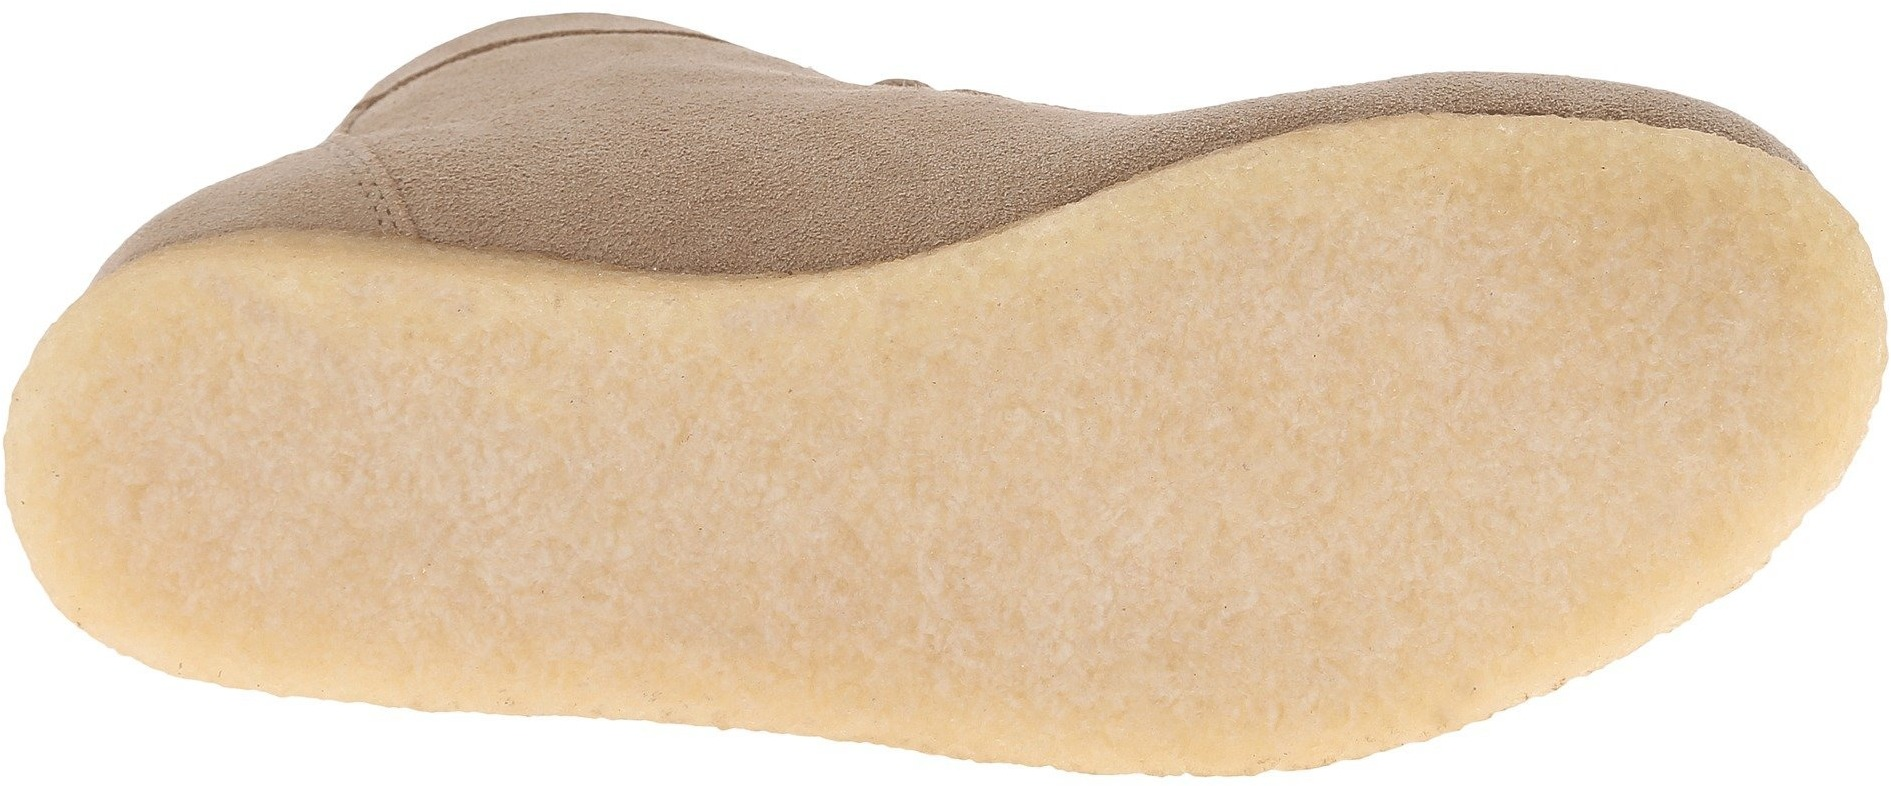other: (1220, 171, 1678, 577), (800, 322, 1263, 690), (440, 309, 781, 630), (74, 325, 429, 624)
